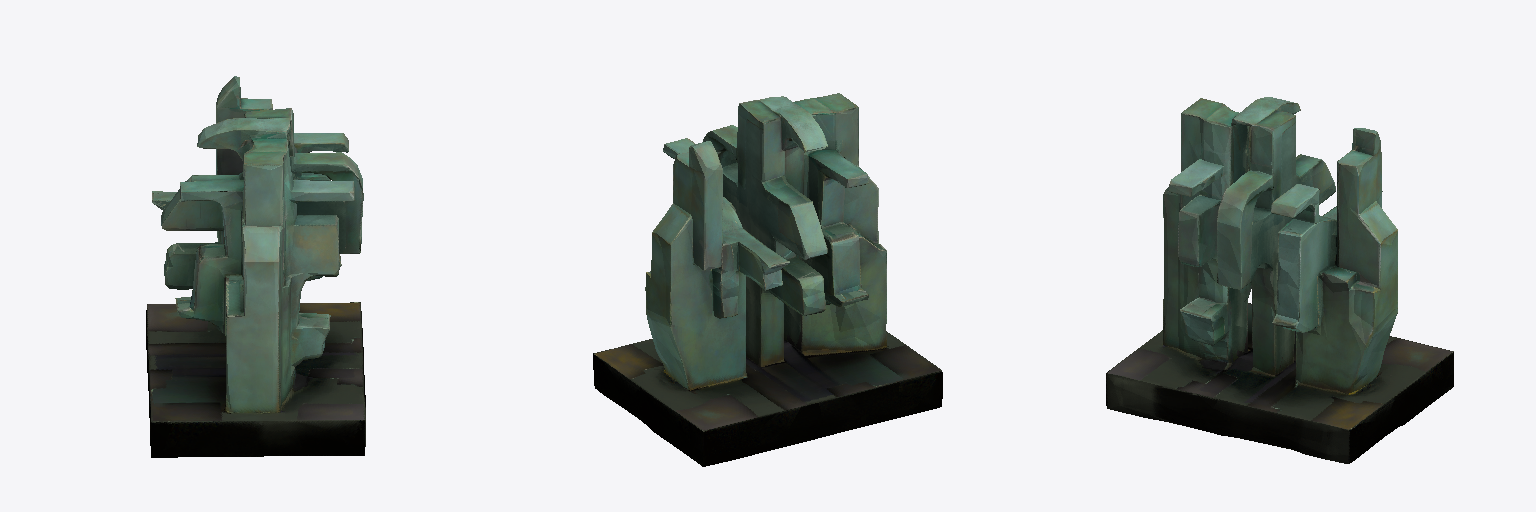
3 views of the same model, side by side, from view 1: azimuth 30°, elevation 25°; view 2: azimuth 150°, elevation 25°; view 3: azimuth 270°, elevation 25° (orthographic).
Visible parts, largest first — view 1: estatuanueva4; view 2: estatuanueva4; view 3: estatuanueva4.
Part boxes in pixels (bbox=[...]): estatuanueva4: bbox=[146, 76, 365, 457]; estatuanueva4: bbox=[593, 93, 942, 466]; estatuanueva4: bbox=[1106, 97, 1453, 463].
Size of the model in its own units: 10.88 by 10.62 by 11.72.
Materials: 1 (1 with a texture image).